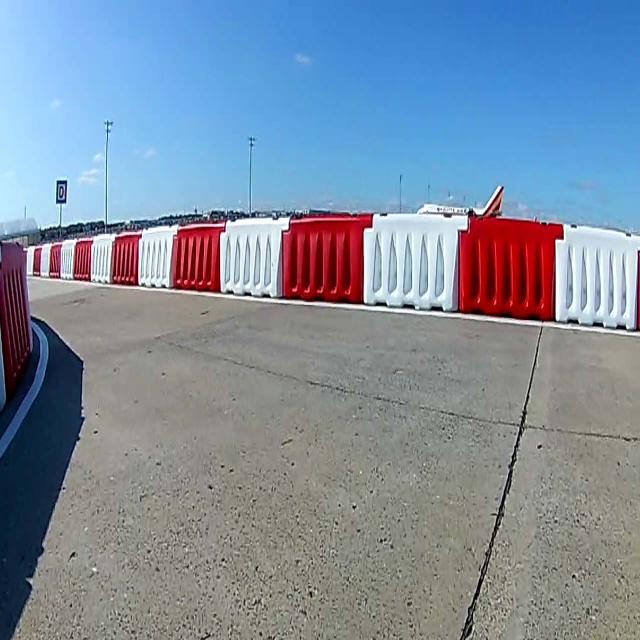durak: (56, 180, 67, 204)
